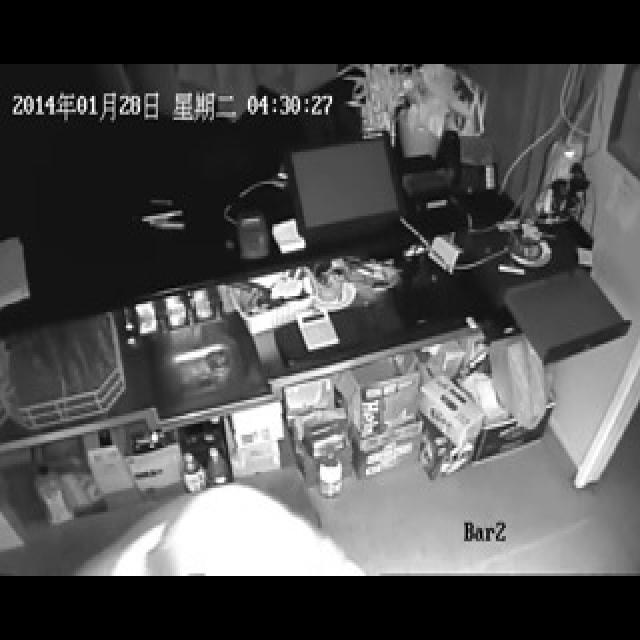thief: (137, 485, 285, 573)
